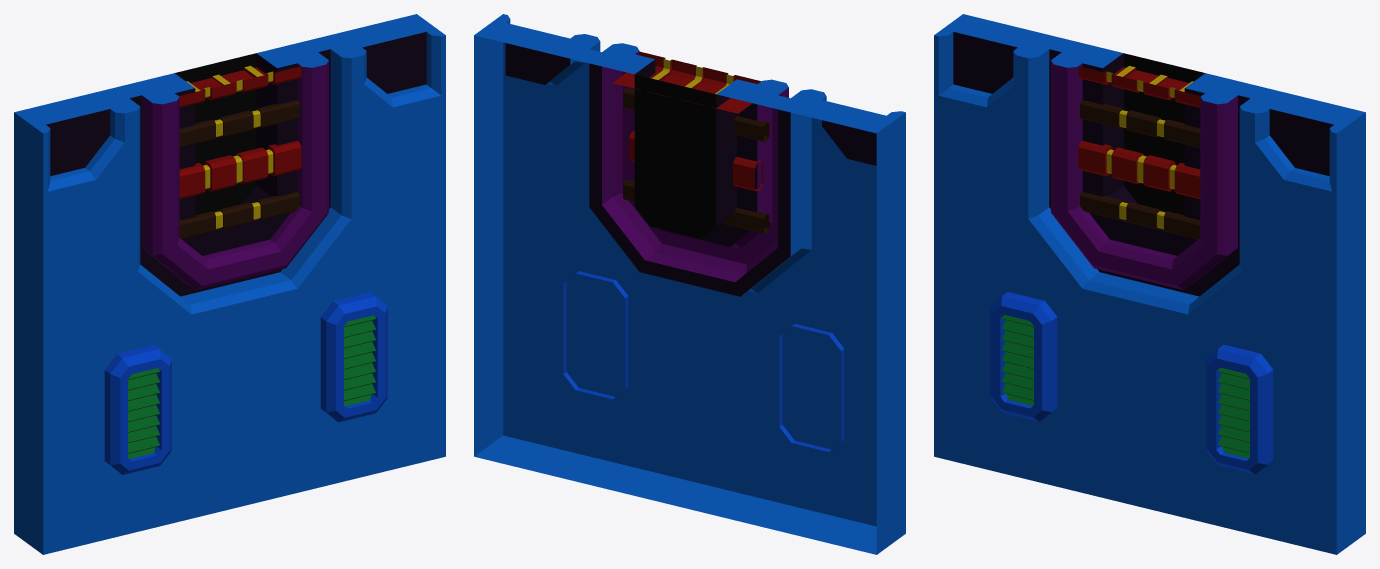
Rendered from OBJ_3_Mur.fbx.
3 views of the same model, side by side, from view 1: azimuth 30°, elevation 25°; view 2: azimuth 150°, elevation 25°; view 3: azimuth 330°, elevation 25° (orthographic).
Parts seen in each view (by area): view 1: OBJ_3_Mur; view 2: OBJ_3_Mur; view 3: OBJ_3_Mur.
Part boxes in pixels (bbox=[...]): OBJ_3_Mur: bbox=[14, 14, 445, 554]; OBJ_3_Mur: bbox=[474, 14, 905, 554]; OBJ_3_Mur: bbox=[934, 14, 1365, 554].
Bounding box in the file's own units: 16 × 16 × 2.66.
